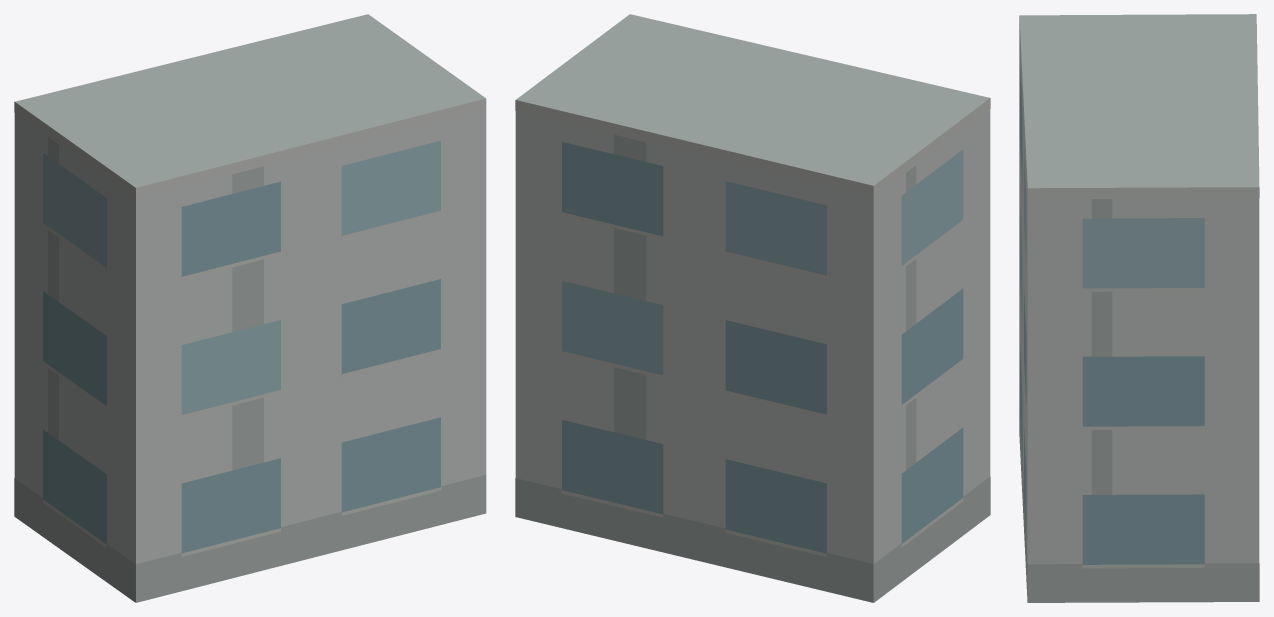
The model's file is survey-upis-32964126.glb.
3 views of the same model, side by side, from view 1: azimuth 30°, elevation 25°; view 2: azimuth 150°, elevation 25°; view 3: azimuth 270°, elevation 25° (orthographic).
Parts seen in each view (by area): view 1: survey-upis-32964126.tmp; view 2: survey-upis-32964126.tmp; view 3: survey-upis-32964126.tmp.
Part boxes in pixels (bbox=[...]): survey-upis-32964126.tmp: bbox=[14, 14, 486, 602]; survey-upis-32964126.tmp: bbox=[515, 14, 990, 602]; survey-upis-32964126.tmp: bbox=[1019, 14, 1259, 602].
Bounding box in the file's own units: 8.25 × 9.15 × 4.81.
